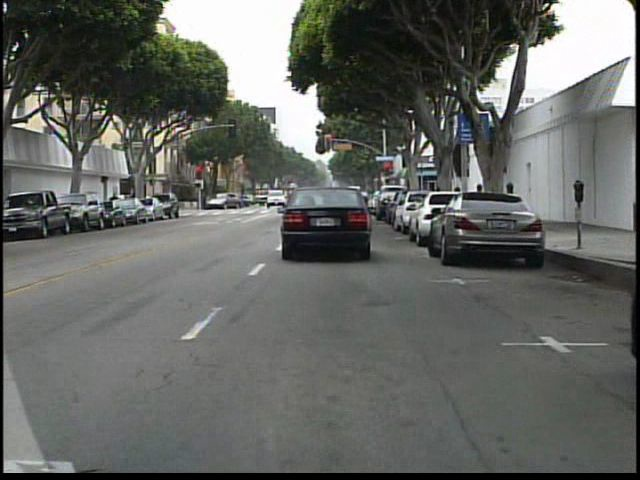person: (108, 189, 123, 219), (199, 188, 214, 212)
